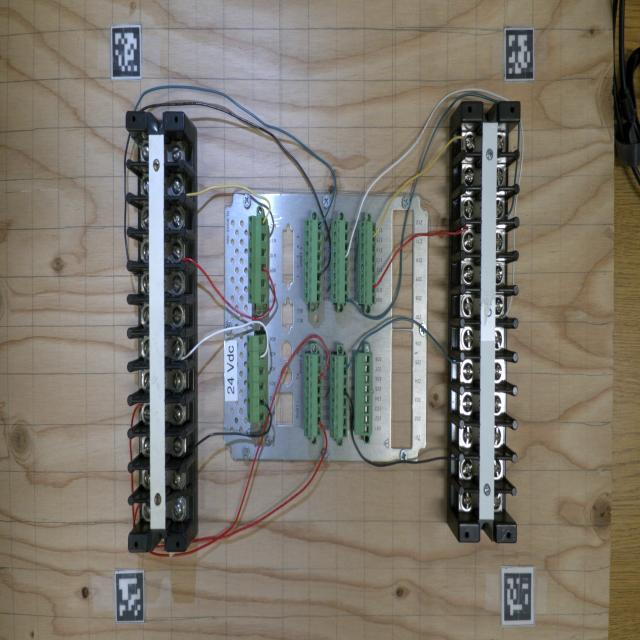Flathead_Block: (127, 112, 186, 551)
Phillips_Block: (459, 102, 520, 542)
Terminal_1: (247, 335, 266, 423), (248, 215, 266, 303)
Terminal_2: (303, 219, 322, 303), (304, 354, 322, 438), (330, 355, 348, 439), (331, 219, 349, 303), (358, 221, 376, 304)
